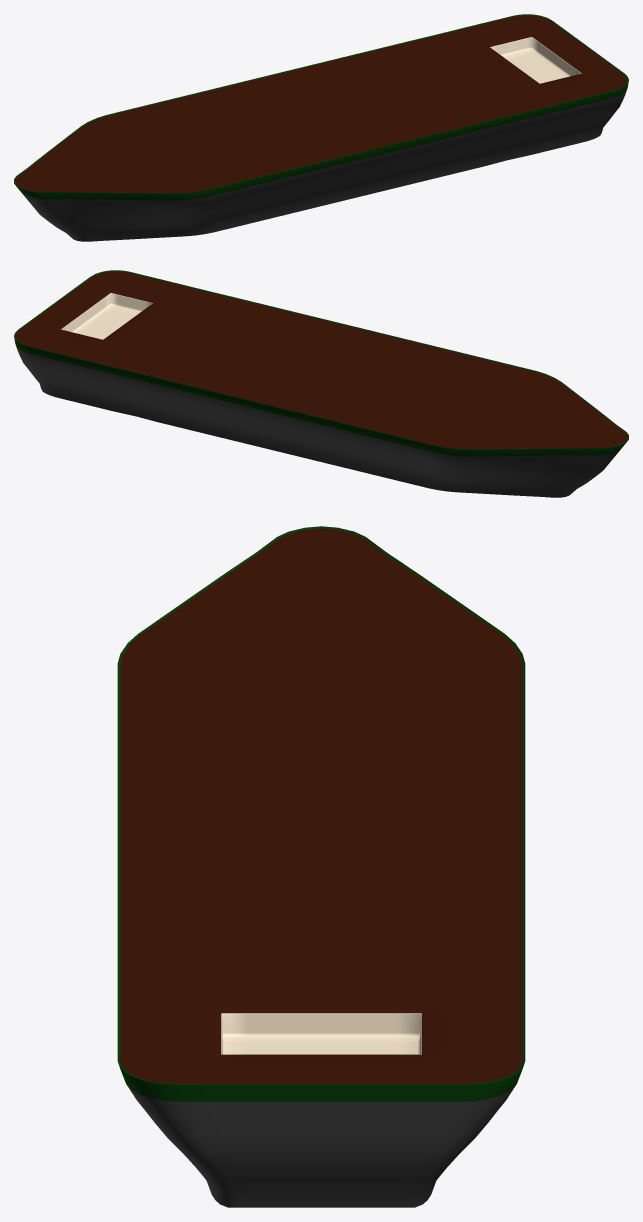
File: Boat.fbx
3 views of the same model, one above another, from view 1: azimuth 30°, elevation 25°; view 2: azimuth 150°, elevation 25°; view 3: azimuth 270°, elevation 25° (orthographic). The views are drawn at different scales.
Parts seen in each view (by area): view 1: Boat (×4); view 2: Boat (×4); view 3: Boat (×4).
Part boxes in pixels (bbox=[...]): Boat (×4): bbox=[14, 14, 628, 241]; Boat (×4): bbox=[14, 270, 628, 497]; Boat (×4): bbox=[117, 526, 525, 1207].
Size of the model in its own units: 16200 by 1806 by 5000.
